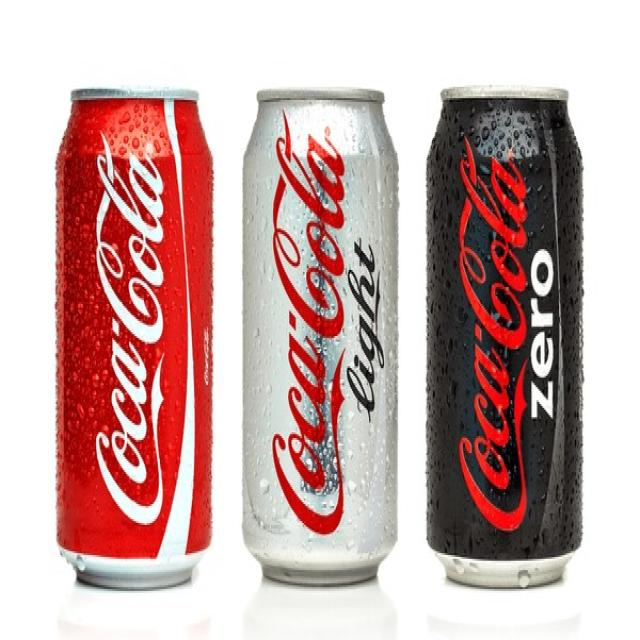cocacola: (53, 86, 211, 591)
